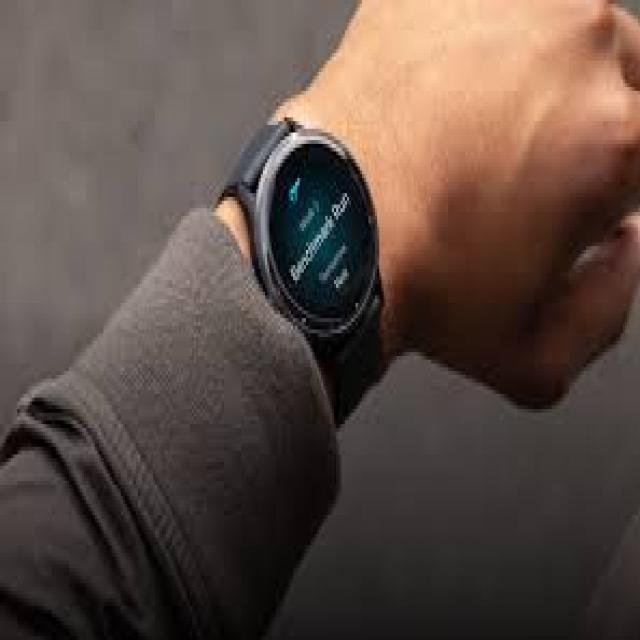objects: (218, 117, 386, 429)
